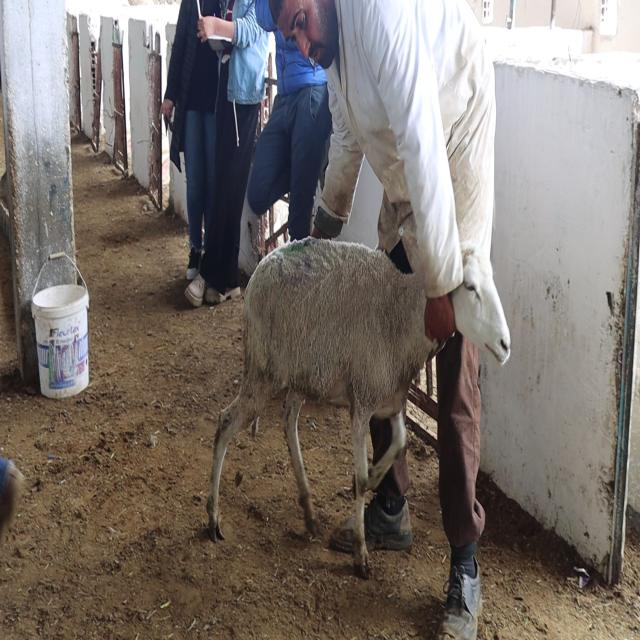Score_1: (207, 238, 440, 577)
